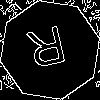R: (25, 25, 71, 78)
